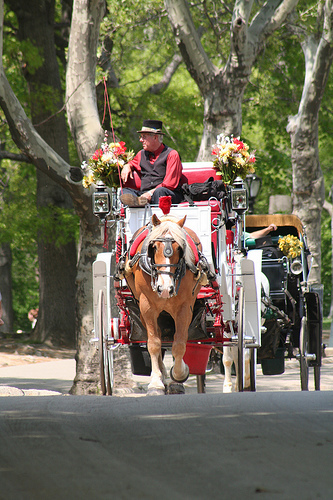horse: (125, 217, 202, 396)
